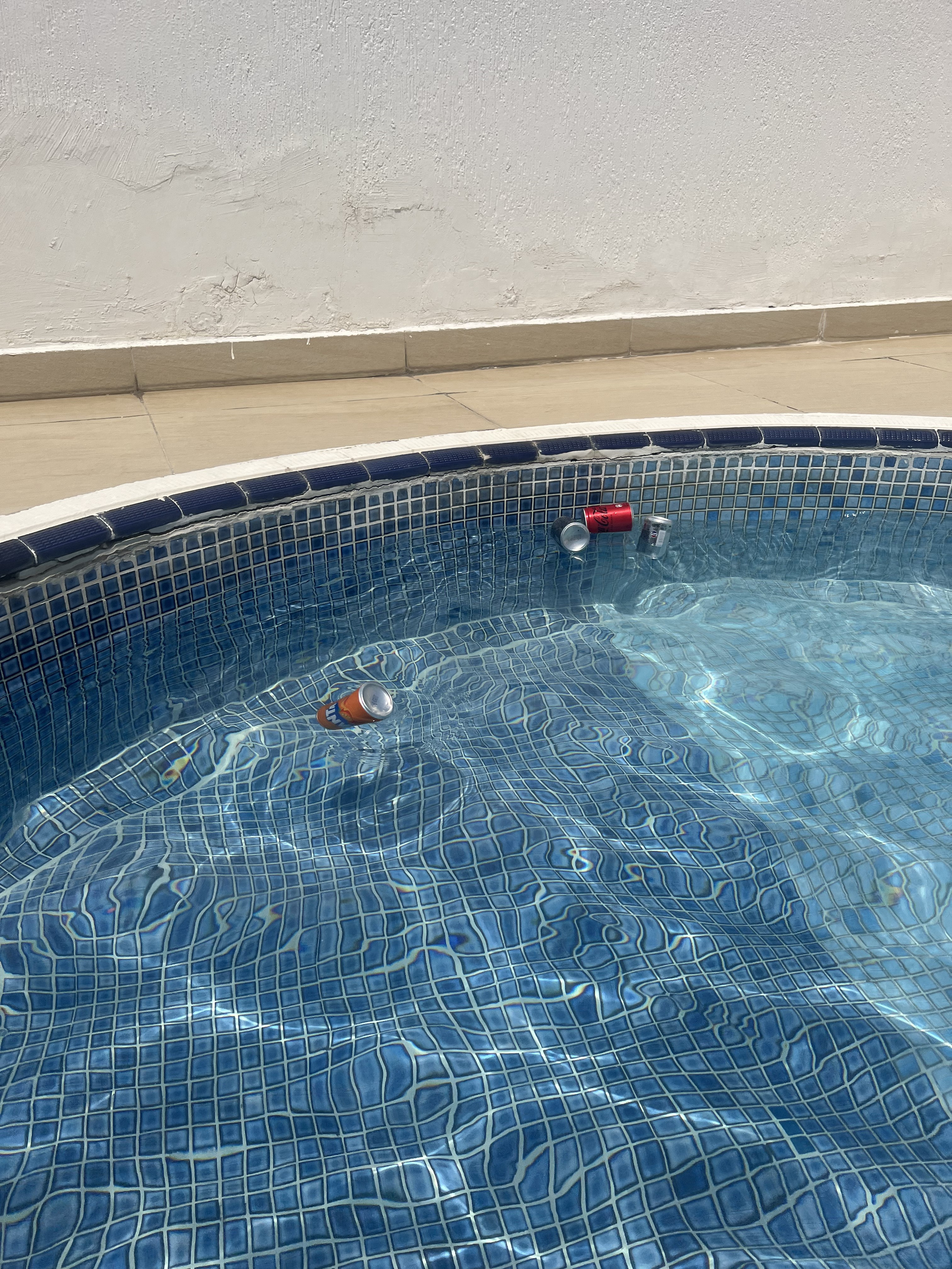debris: (311, 664, 394, 744), (579, 482, 633, 549), (636, 498, 671, 567), (549, 507, 585, 563)
